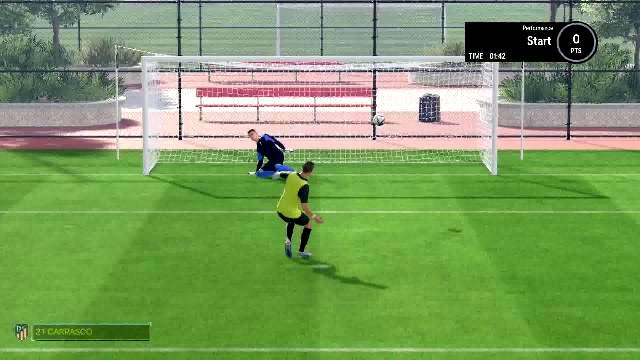bottom-left: (146, 119, 262, 175)
bottom-right: (378, 119, 492, 175)
center-down: (262, 118, 378, 176)
center-up: (262, 62, 378, 118)
football: (367, 112, 387, 126)
goalkeeper: (244, 126, 294, 182)
player: (273, 158, 321, 262)
top-left: (146, 62, 262, 118)
top-right: (378, 62, 494, 118)
